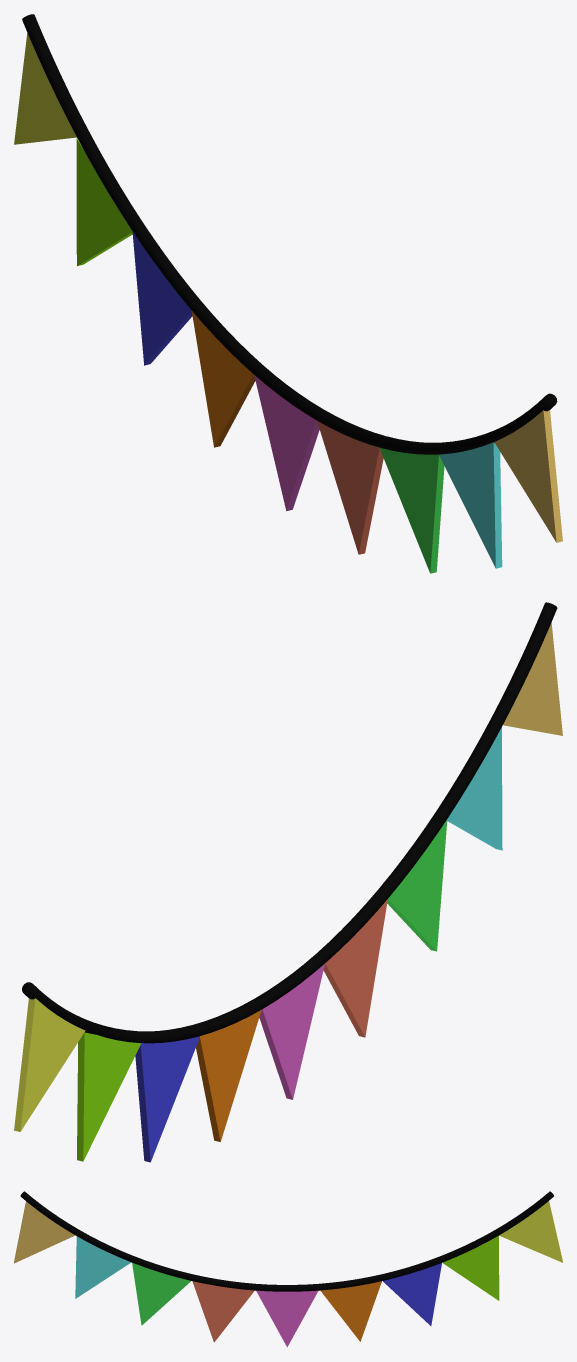
File: banderines fiesta.fbx
The picture shows the model from 3 angles, top to bottom: view 1: azimuth 30°, elevation 25°; view 2: azimuth 150°, elevation 25°; view 3: azimuth 270°, elevation 25°; orthographic projection. The views are drawn at different scales.
Parts seen in each view (by area): view 1: Plane.008; view 2: Plane.008; view 3: Plane.008.
Boxes of the visible parts, x1=… form: Plane.008: x1=14, y1=14, x2=562, y2=573; Plane.008: x1=14, y1=602, x2=562, y2=1162; Plane.008: x1=14, y1=1191, x2=562, y2=1347.
Bounding box in the file's own units: 4 × 100 × 322.
